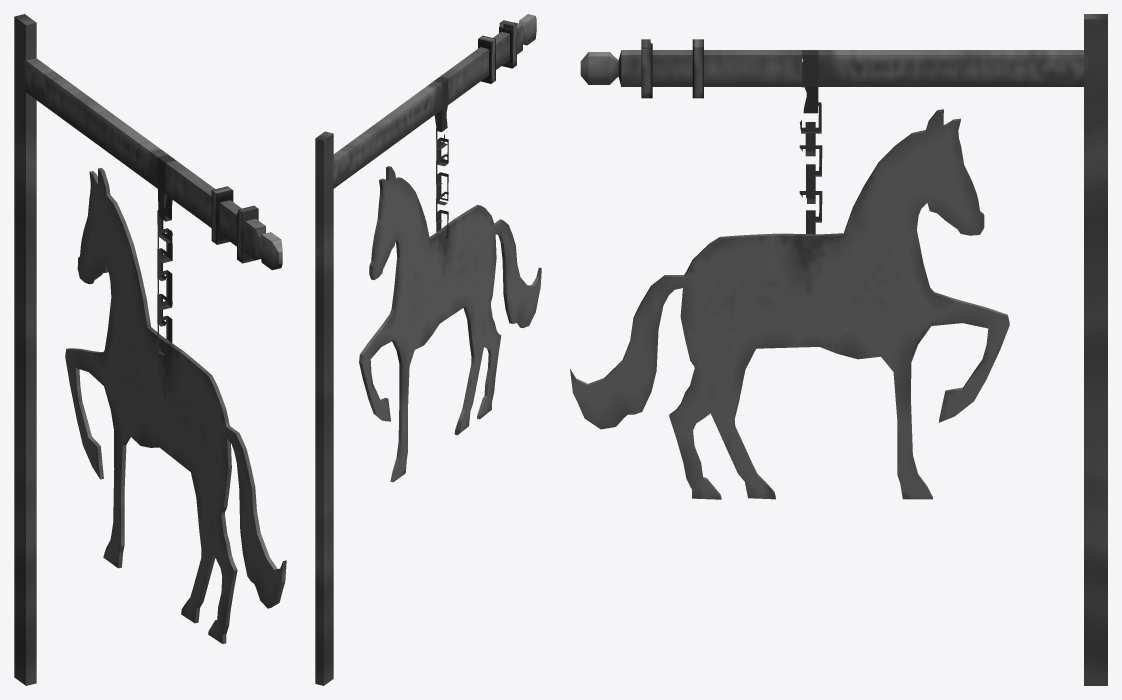
The model's file is sign_361x07.obj.
The picture shows the model from 3 angles, left to right: view 1: azimuth 30°, elevation 25°; view 2: azimuth 150°, elevation 25°; view 3: azimuth 270°, elevation 25°; orthographic projection. The views are drawn at different scales.
Parts seen in each view (by area): view 1: Sign_361x7; view 2: Sign_361x7; view 3: Sign_361x7.
Part boxes in pixels (x1,y1,x2,y2): Sign_361x7: [14, 14, 286, 685]; Sign_361x7: [315, 14, 541, 685]; Sign_361x7: [570, 14, 1107, 685].
Size of the model in its own units: 0.1022 by 3.98 by 2.91.
